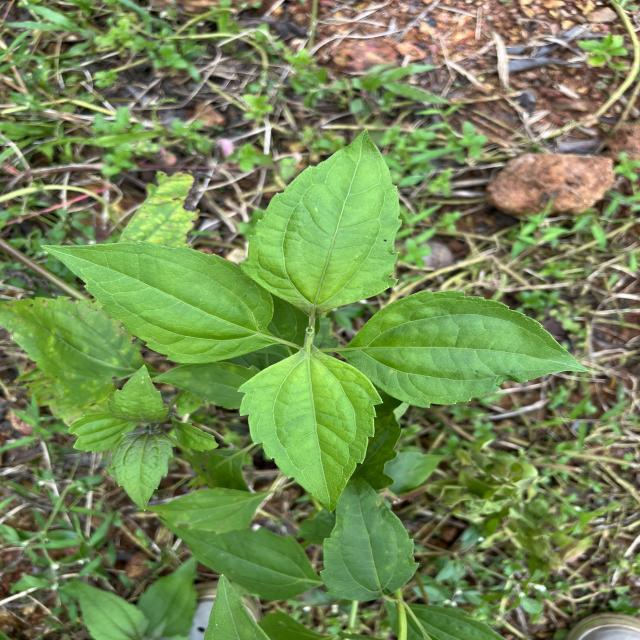Chromolaena odorata: (236, 125, 407, 318), (335, 286, 592, 412), (234, 344, 386, 515)
